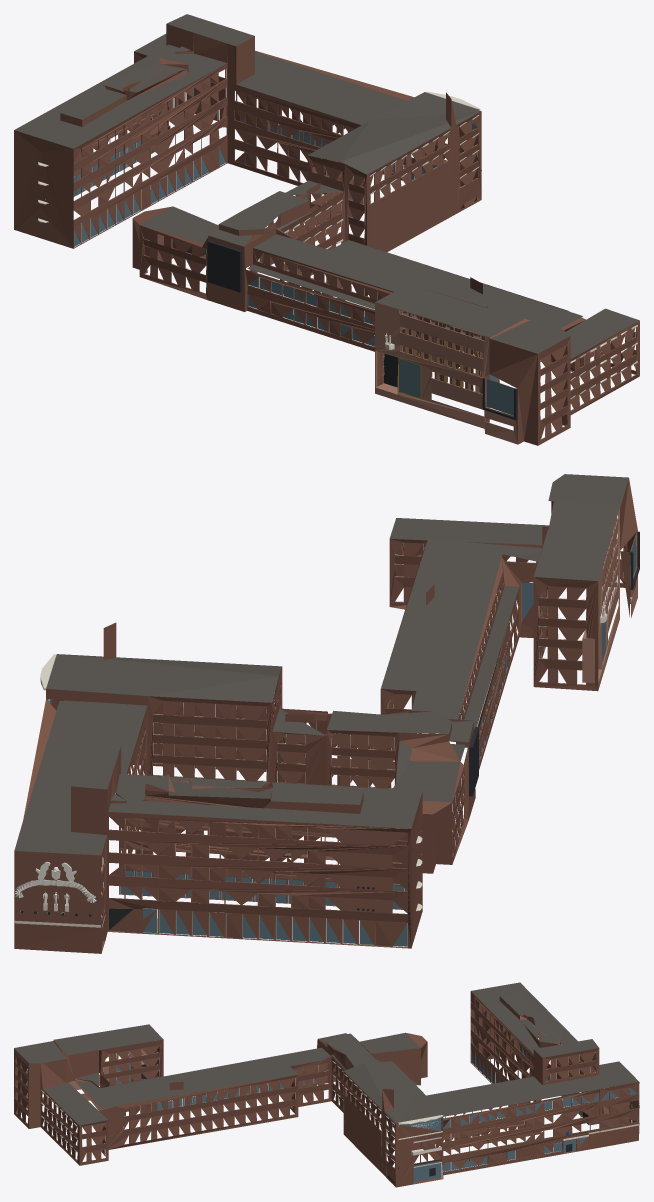
File: hoofdbureau-elandsgracht.lod1.glb
3 views of the same model, one above another, from view 1: azimuth 30°, elevation 25°; view 2: azimuth 150°, elevation 25°; view 3: azimuth 270°, elevation 25° (orthographic). The views are drawn at different scales.
Visible parts, largest first — view 1: hoofdbureau-elandsgracht; view 2: hoofdbureau-elandsgracht; view 3: hoofdbureau-elandsgracht.
Part boxes in pixels (<box>): hoofdbureau-elandsgracht: <box>14,14,639,445</box>; hoofdbureau-elandsgracht: <box>14,474,639,953</box>; hoofdbureau-elandsgracht: <box>14,982,639,1187</box>.
Size of the model in its own units: 83.26 by 24.83 by 164.
